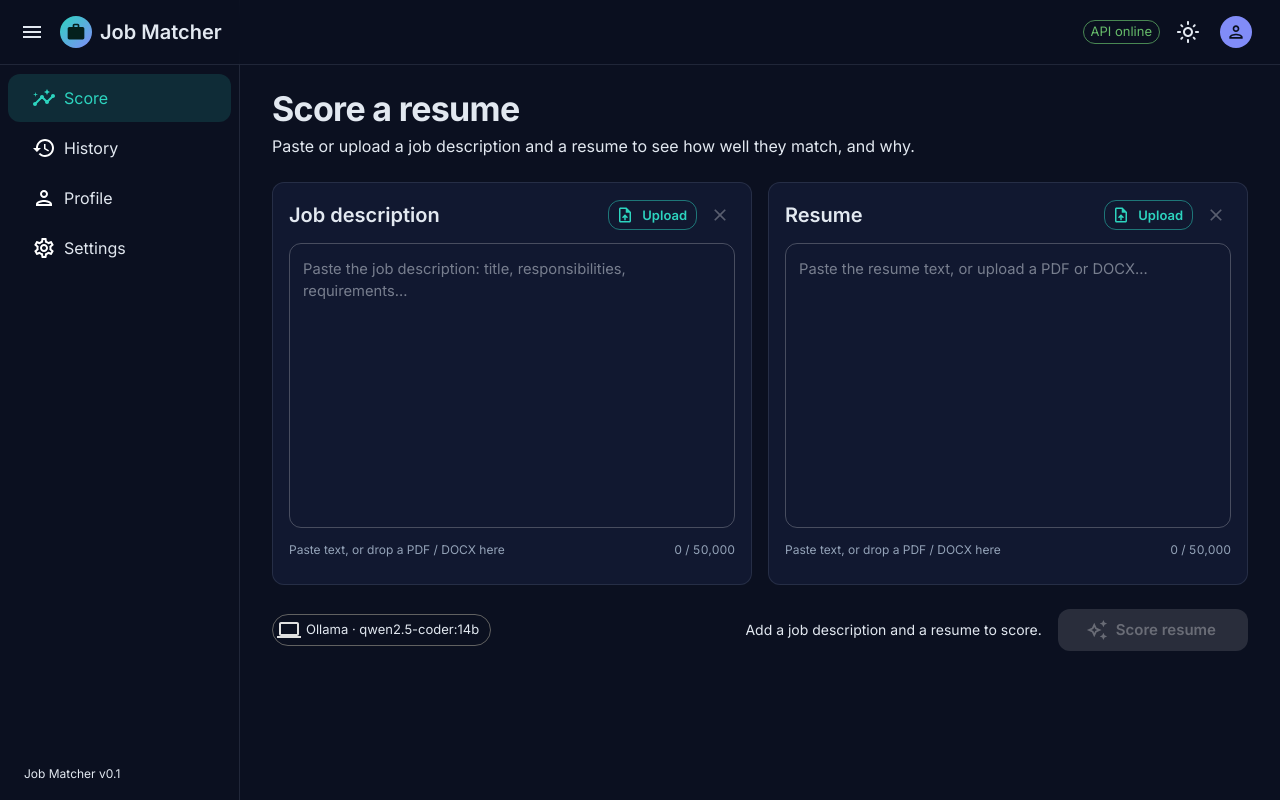
it: theme toggle › defaults to dark and switches to light
The width and height of the screenshot is (1280, 800).
What coordinates should you click on to do the following:
click the button named "Switch to light mode"
I would click on:
 (1188, 32)
Its box is x1=1168 y1=12 x2=1208 y2=52.
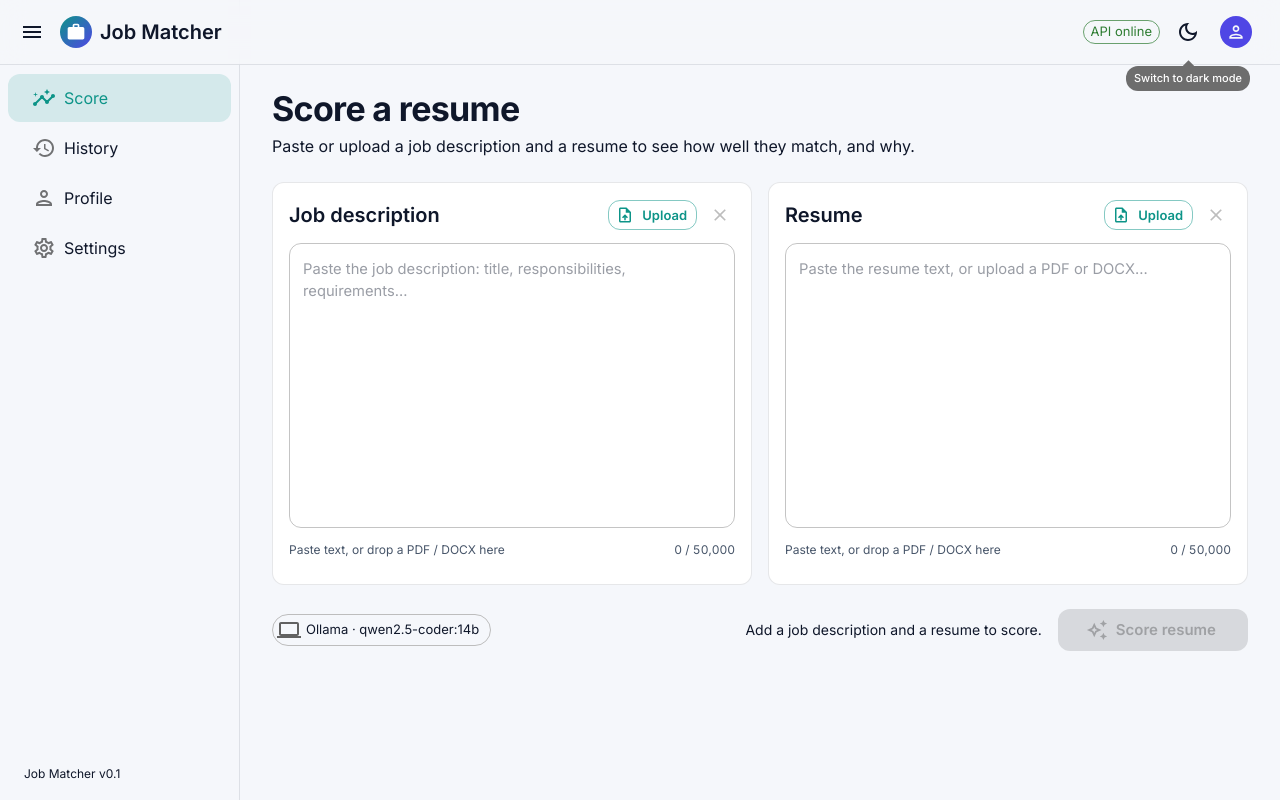
Result: the button named "Switch to dark mode" is shown at x1=1168 y1=12 x2=1208 y2=52
